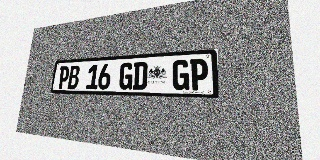1: (86, 64, 100, 89)
6: (97, 63, 112, 89)
B: (67, 65, 80, 89)
D: (132, 62, 148, 90)
G: (172, 59, 189, 90), (118, 62, 134, 90)
P: (190, 58, 208, 90), (57, 66, 70, 89)
